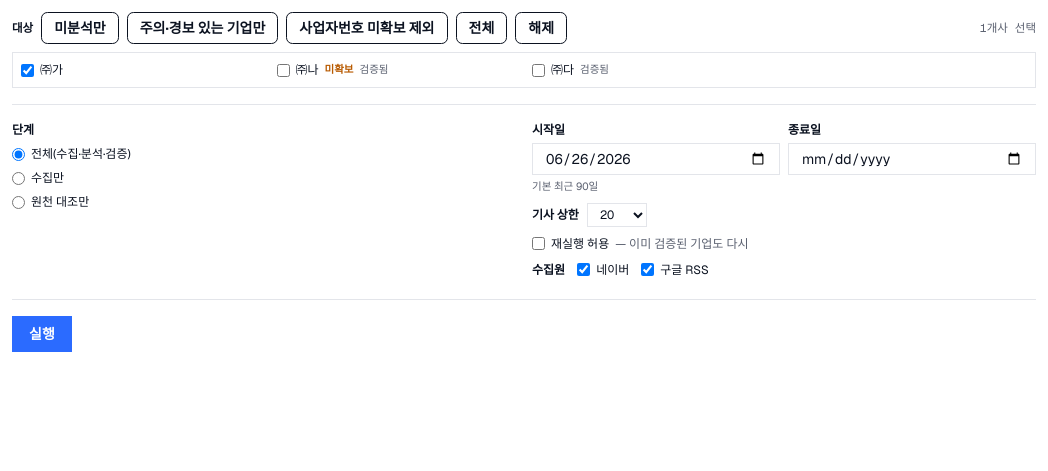
it: BatchRunner › a refused 중단 rolls the button back and says so
Click the button "실행": (42, 334) left=12, top=316, right=72, bottom=352
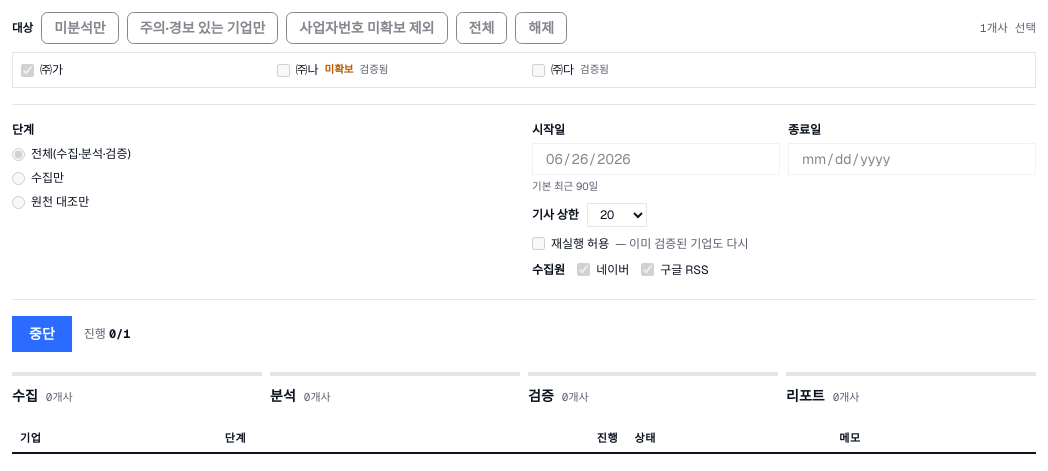
Check: the button "중단" is shown
Click the button "중단": (42, 334) left=12, top=316, right=72, bottom=352
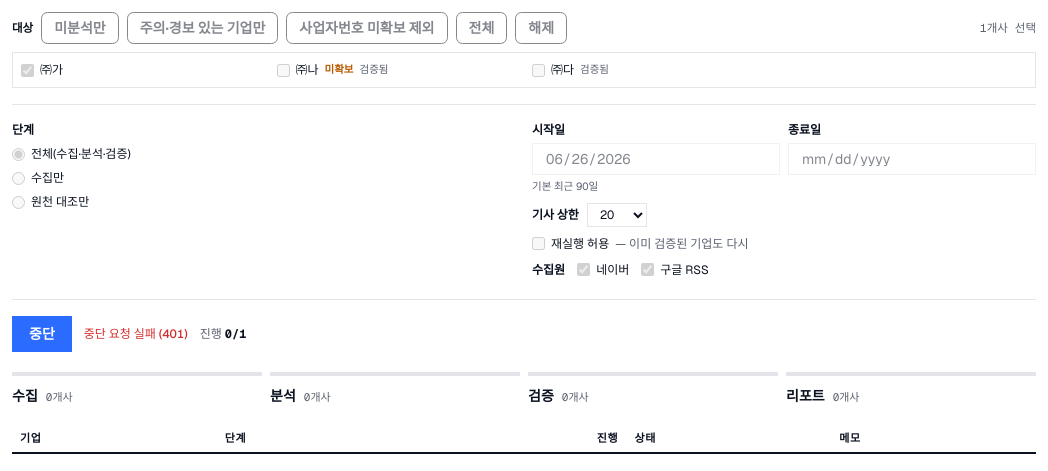
Check: the message "중단 요청 실패 (401)" is shown, box left=84, top=325, right=188, bottom=343
